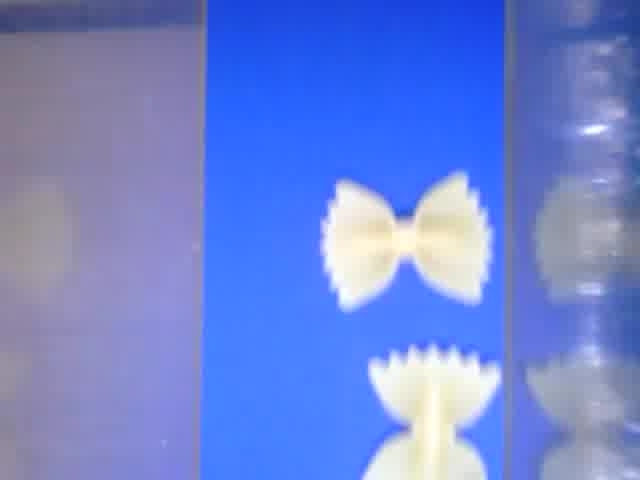farfalle: (322, 170, 493, 308), (357, 346, 502, 480)
